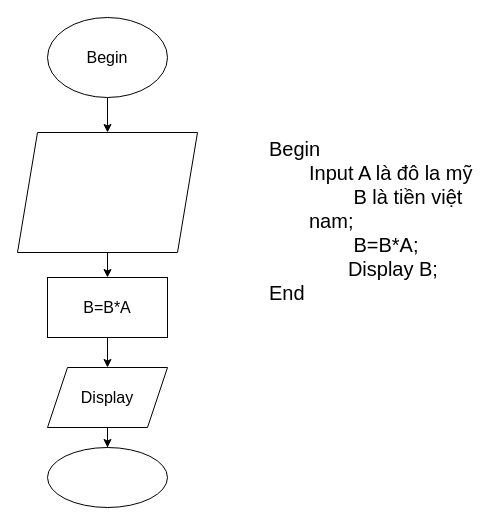
This 495x525 diagram has some shape labels left out. The centre of each missing label's shape, as x and y in pixels:
"End" goes at pixel 107 477.
"Input A là đô la mỹ B là tiền việt" goes at pixel 107 192.
